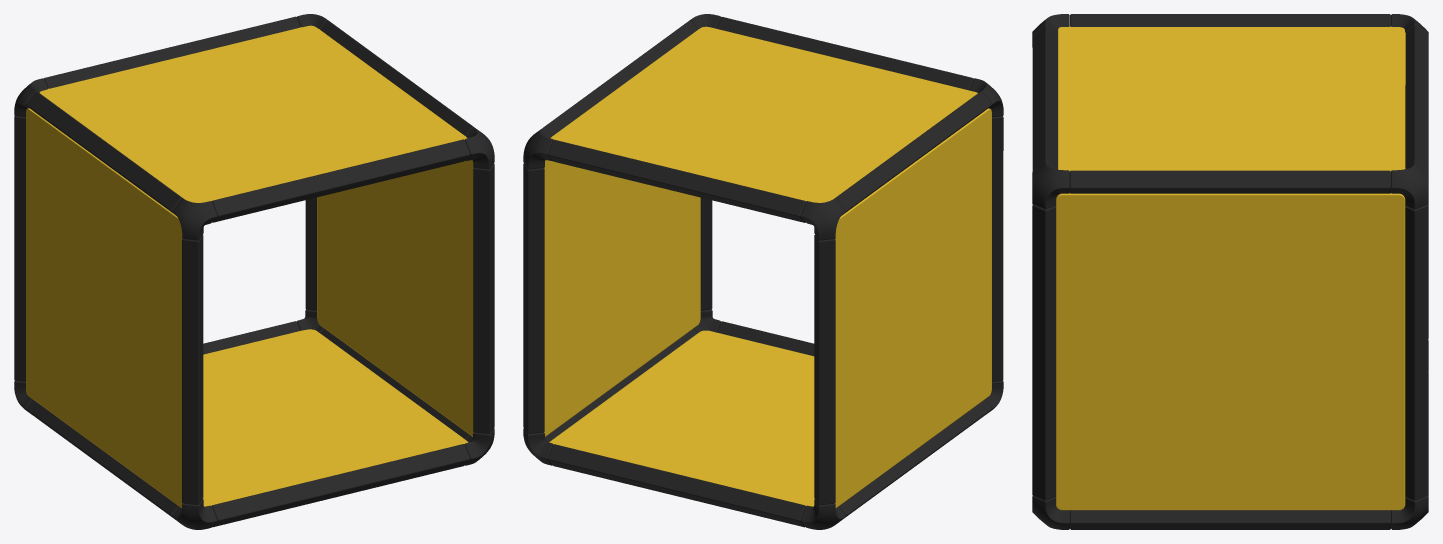
The picture shows the model from 3 angles, left to right: view 1: azimuth 30°, elevation 25°; view 2: azimuth 150°, elevation 25°; view 3: azimuth 270°, elevation 25°; orthographic projection. The views are drawn at different scales.
Parts seen in each view (by area): view 1: 329x329x329; view 2: 329x329x329; view 3: 329x329x329.
Part boxes in pixels (x1,y1,x2,y2): 329x329x329: (14,14,494,529); 329x329x329: (523,14,1003,529); 329x329x329: (1032,14,1428,529).
Size of the model in its own units: 0.4067 by 0.4066 by 0.4063.
